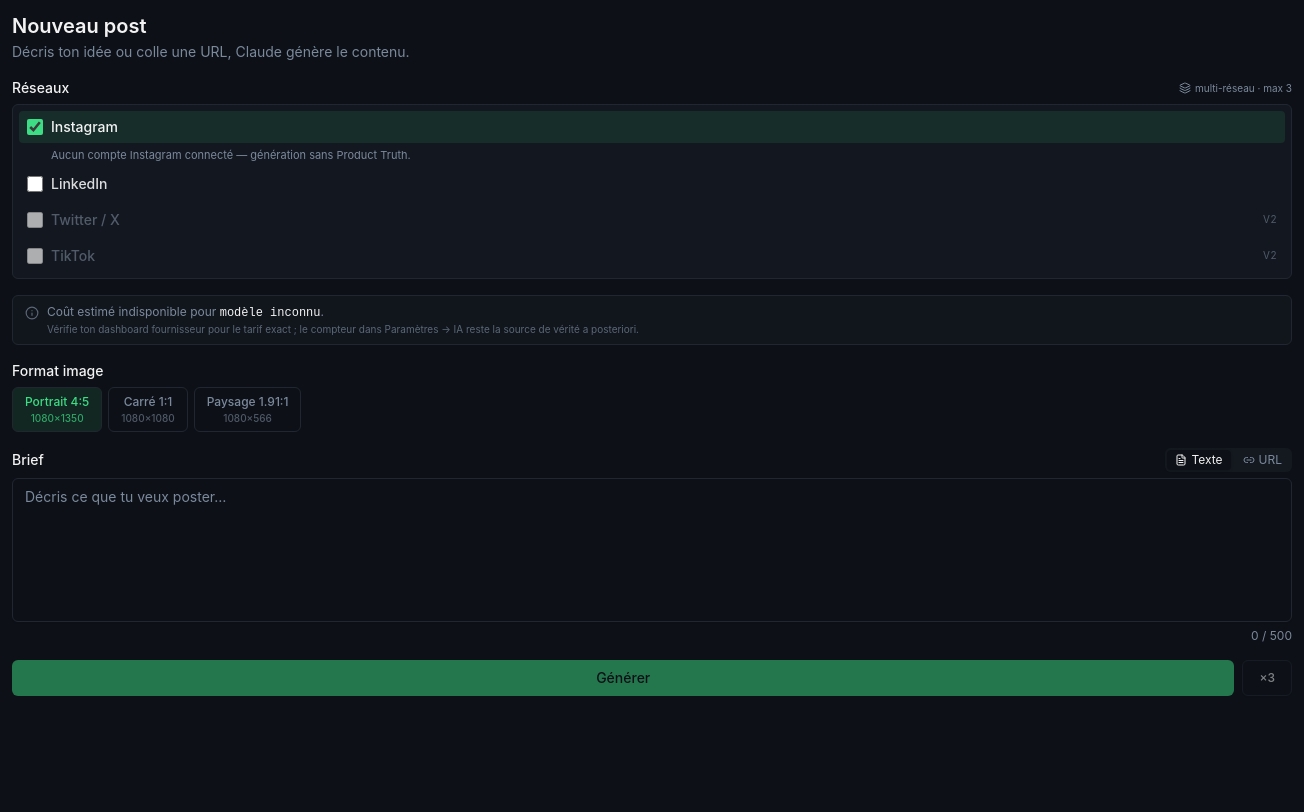
Test: BriefForm — validation Zod › désactive le bouton Générer si le brief est trop court (< 10 chars)
Type "trop court" into the text box with placeholder "Décris ce que tu veux poster…".
click(652, 550); type("trop court")  # box [12,478,1292,622]
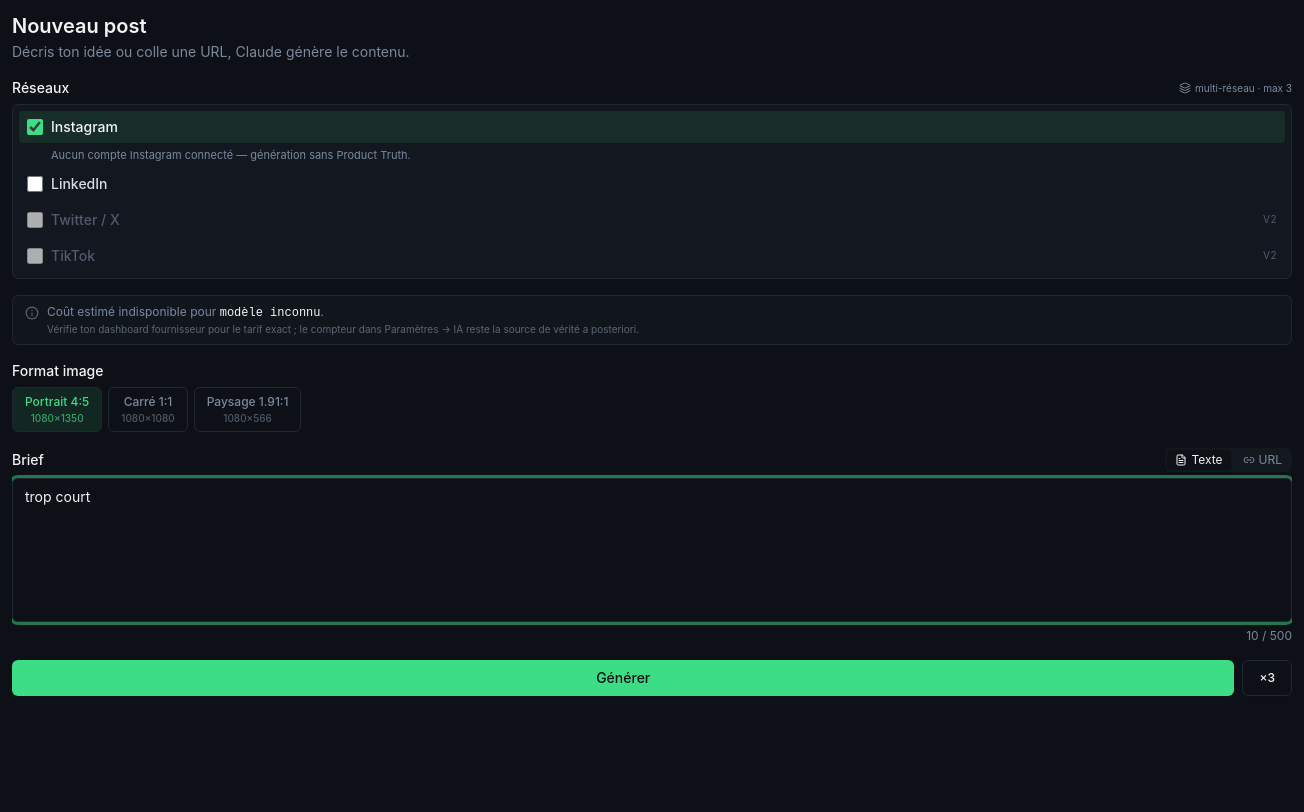
Expected: the button "Générer" is enabled, [12,660,1234,696]
